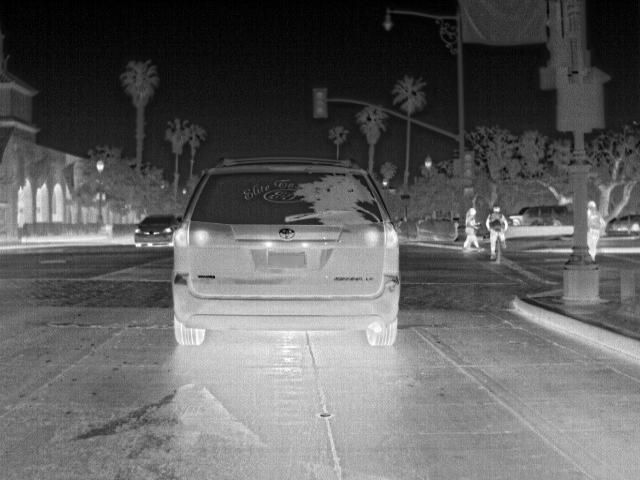car: (171, 155, 403, 347), (131, 214, 180, 248), (511, 205, 573, 226), (605, 213, 638, 233)
person: (485, 205, 509, 256), (586, 200, 606, 260), (460, 206, 480, 250)
